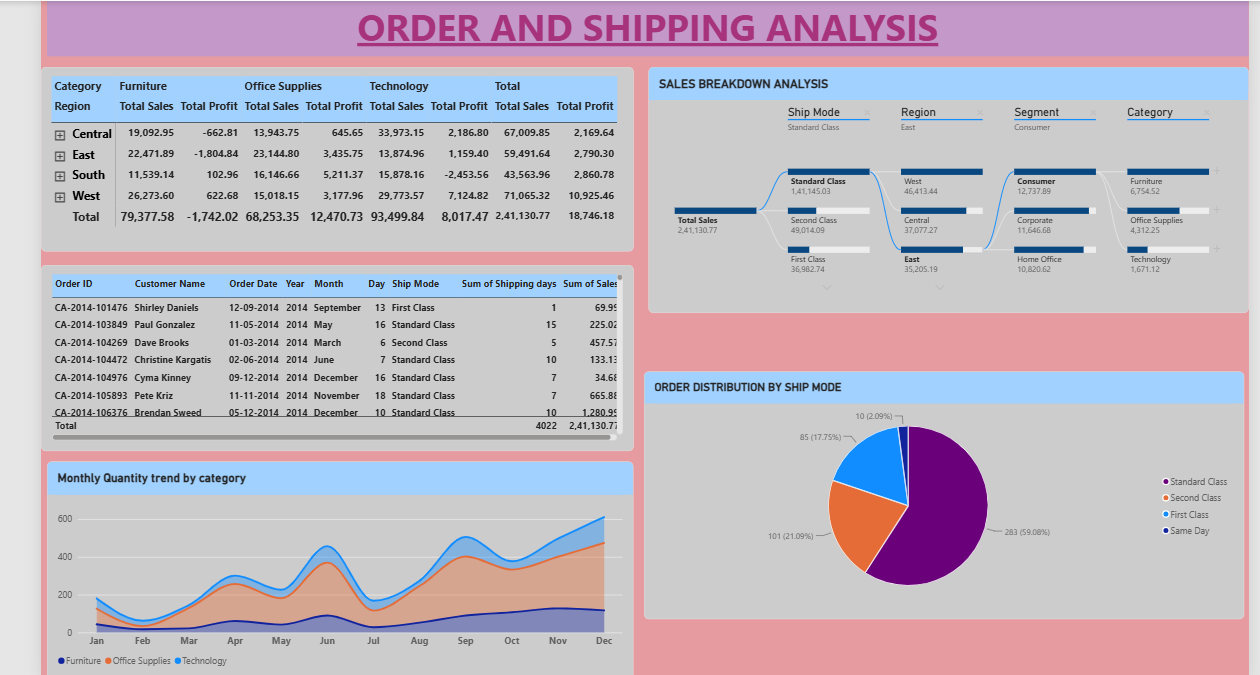

What the dashboard file says about the page in this screenshot:
{"tool":"powerbi","page":{"name":"Dashboard 3","canvas":[1920,1080],"ordinal":3},"visuals":[{"type":"textbox","box":[9.5,0,1911.1,88.3],"z":0},{"type":"pivotTable","fields":{"Columns":["Superstore.Category"],"Rows":["Superstore.Region","Superstore.State"],"Values":["Superstore.Total Sales","Superstore.Total Profit"]},"box":[0,105,942.4,293.5],"z":1},{"type":"tableEx","fields":{"Values":["Superstore.Order ID","Superstore.Customer Name","Superstore.Order Date","Superstore.Ship Date.Variation.Date Hierarchy.Year","Superstore.Ship Date.Variation.Date Hierarchy.Month","Superstore.Ship Date.Variation.Date Hierarchy.Day","Superstore.Ship Mode","Sum(Superstore.Shipping days)","Sum(Superstore.Sales)"]},"box":[0,419.9,942.4,295.9],"z":2},{"type":"stackedAreaChart","title":"Monthly Quantity trend by category","fields":{"Category":["DATE TABLE.MONTH"],"Series":["Superstore.Category"],"Y":["Superstore.Total Quantity"]},"box":[9.5,732.5,932.9,348.3],"z":3},{"type":"decompositionTreeVisual","title":"SALES BREAKDOWN ANALYSIS","fields":{"Analyze":["Superstore.Total Sales"],"ExplainBy":["Superstore.Ship Mode","Superstore.Region","Superstore.Segment","Superstore.Category","Superstore.State"]},"box":[966.3,105,954.4,391.3],"z":4},{"type":"pieChart","title":"ORDER DISTRIBUTION BY SHIP MODE","fields":{"Category":["Superstore.Ship Mode"],"Y":["Superstore.Total orders"]},"box":[959.1,589.3,954.4,393.7],"z":5}]}

Visuals, with their boxes on the page's 1920x1080 design canvas (x1, y1, x2, y2). These are canvas units, not pixel positions in the 1260x675 screenshot, which may show the page scaled, cropped or inside an application window:
textbox: 10/0/1921/88
pivotTable - Superstore.Category x Superstore.Region: 0/105/942/398
tableEx - Superstore.Order ID x Superstore.Customer Name: 0/420/942/716
"Monthly Quantity trend by category" stackedAreaChart: 10/732/942/1081
"SALES BREAKDOWN ANALYSIS" decompositionTreeVisual: 966/105/1921/496
"ORDER DISTRIBUTION BY SHIP MODE" pieChart: 959/589/1914/983
